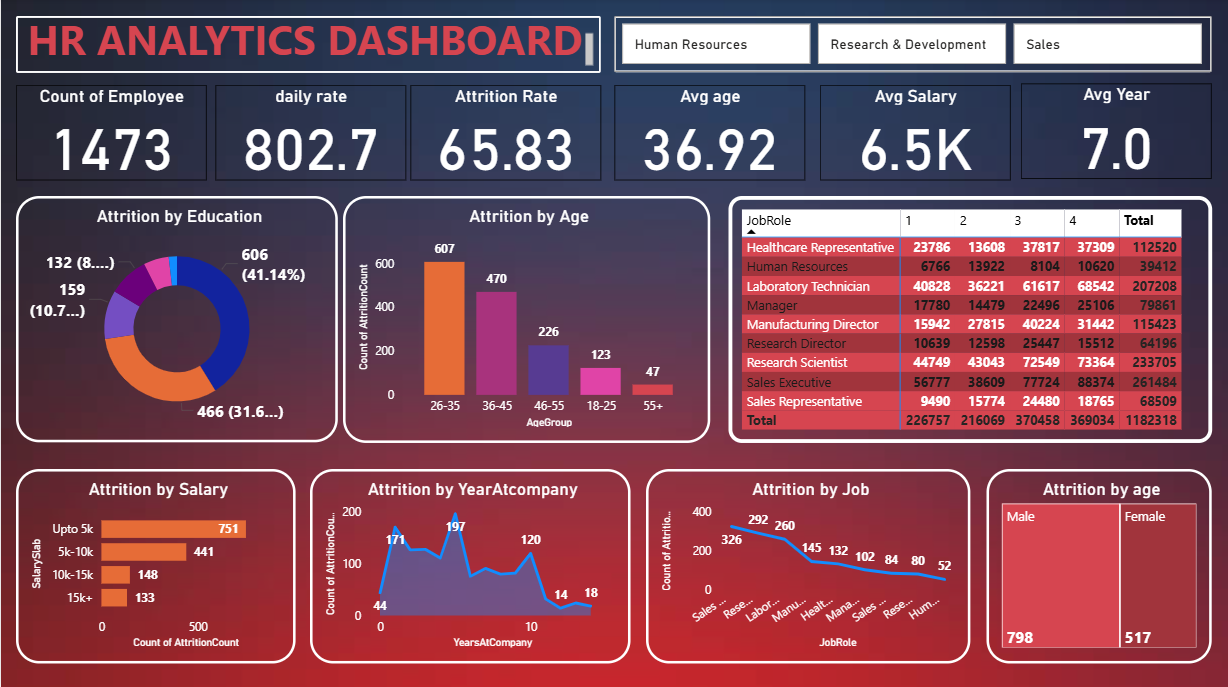

Layout of this report page (visuals, bound fields, positions):
{"tool":"powerbi","page":{"name":"Page 1","canvas":[1280,720],"ordinal":0},"visuals":[{"type":"card","title":"Count of Employee","fields":{"Values":["CountNonNull(HR_Analytics(3).EmpID)"]},"box":[16.2,91.1,198.5,99.2],"z":0},{"type":"card","title":"daily rate","fields":{"Values":["Avg(HR_Analytics(3).DailyRate)"]},"box":[222.8,91.1,198.5,99.2],"z":1},{"type":"card","title":"Attrition Rate","fields":{"Values":["Avg(HR_Analytics(3).HourlyRate)"]},"box":[427.3,91.1,198.5,99.2],"z":2},{"type":"card","title":"Avg age","fields":{"Values":["Avg(HR_Analytics(3).Age)"]},"box":[640,91.1,198.5,99.2],"z":3},{"type":"card","title":"Avg Salary","fields":{"Values":["Avg(HR_Analytics(3).MonthlyIncome)"]},"box":[852.7,91.1,198.5,99.2],"z":4},{"type":"card","title":"Avg Year","fields":{"Values":["Avg(HR_Analytics(3).YearsAtCompany)"]},"box":[1063.2,89.8,198.5,99.2],"z":5},{"type":"donutChart","title":"Attrition by Education","fields":{"Category":["HR_Analytics(3).EducationField"],"Y":["CountNonNull(HR_Analytics(3).AttritionCount)"]},"box":[15.8,206.3,335.5,256.7],"z":6},{"type":"columnChart","title":"Attrition by Age","fields":{"Category":["HR_Analytics(3).AgeGroup"],"Y":["CountNonNull(HR_Analytics(3).AttritionCount)"]},"box":[356.5,206.6,382.8,257.2],"z":7},{"type":"pivotTable","fields":{"Rows":["HR_Analytics(3).JobRole"],"Columns":["HR_Analytics(3).JobSatisfaction"],"Values":["Sum(HR_Analytics(3).DailyRate)"]},"box":[757.5,206.6,504.3,257.2],"z":8},{"type":"barChart","title":"Attrition by Salary","fields":{"Category":["HR_Analytics(3).SalarySlab"],"Y":["CountNonNull(HR_Analytics(3).AttritionCount)"]},"box":[16.2,490.1,291.6,202.5],"z":9},{"type":"lineChart","title":"Attrition by Job","fields":{"Category":["HR_Analytics(3).JobRole"],"Y":["CountNonNull(HR_Analytics(3).AttritionCount)"]},"box":[672.4,490.1,338.2,202.5],"z":10},{"type":"areaChart","title":"Attrition by YearAtcompany","fields":{"Category":["HR_Analytics(3).YearsAtCompany"],"Y":["CountNonNull(HR_Analytics(3).AttritionCount)"]},"box":[322,490.1,334.2,202.5],"z":11},{"type":"treemap","title":"Attrition by age","fields":{"Group":["HR_Analytics(3).Gender"],"Values":["CountNonNull(HR_Analytics(3).AttritionCount)"]},"box":[1026.8,490.1,234.9,202.5],"z":12},{"type":"advancedSlicerVisual","fields":{"Values":["HR_Analytics(3).Department"]},"box":[640,18.2,621.8,58.7],"z":13},{"type":"textbox","box":[16.2,18.2,609.6,58.7],"z":14}]}

Visuals, with their boxes in screenshot pixels (x1, y1, x2, y2), scaled from the page's 1280x720 canvas onto the 1228x687 screenshot:
"Count of Employee" card: 16:87:206:182
"daily rate" card: 214:87:404:182
"Attrition Rate" card: 410:87:600:182
"Avg age" card: 614:87:804:182
"Avg Salary" card: 818:87:1008:182
"Avg Year" card: 1020:86:1210:180
"Attrition by Education" donutChart: 15:197:337:442
"Attrition by Age" columnChart: 342:197:709:443
pivotTable - HR_Analytics(3).JobRole x HR_Analytics(3).JobSatisfaction: 727:197:1211:443
"Attrition by Salary" barChart: 16:468:295:661
"Attrition by Job" lineChart: 645:468:970:661
"Attrition by YearAtcompany" areaChart: 309:468:630:661
"Attrition by age" treemap: 985:468:1210:661
advancedSlicerVisual - HR_Analytics(3).Department: 614:17:1211:73
textbox: 16:17:600:73
